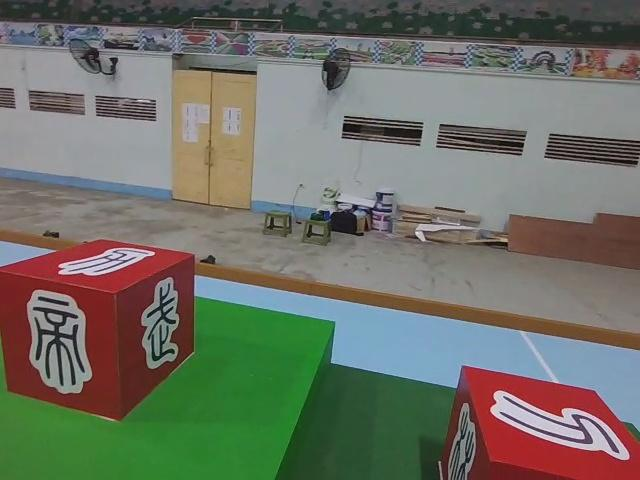R2 Fake: (0, 234, 197, 423), (438, 362, 640, 480)
